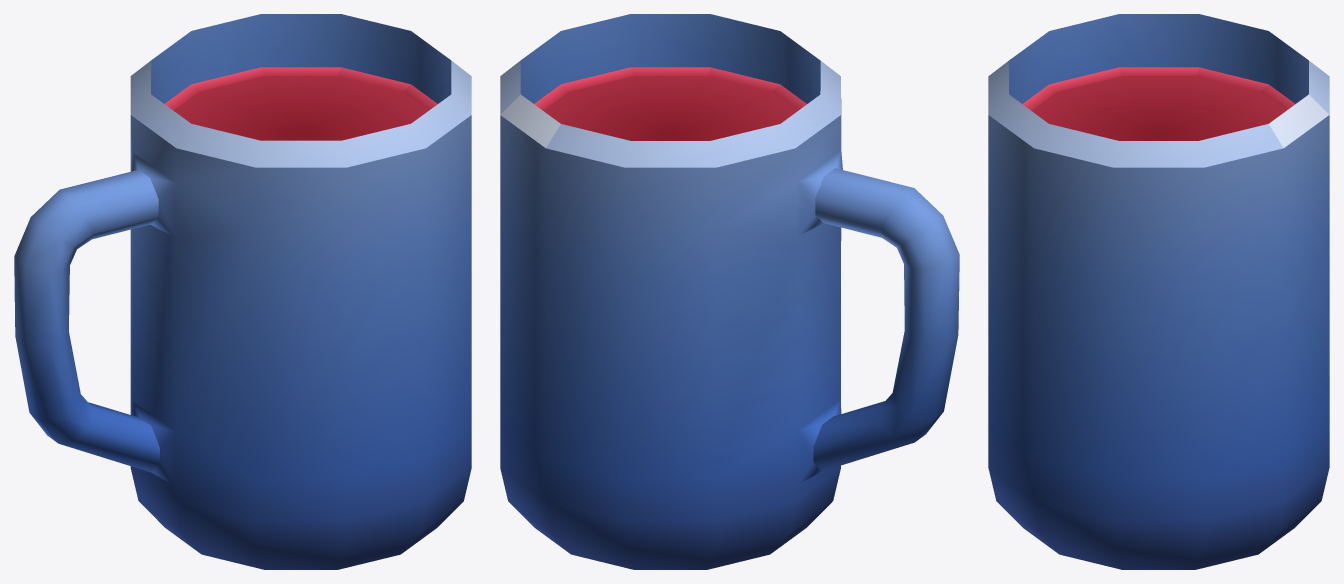
The model's file is m_GlassMug01_Tea05.fbx.
3 views of the same model, side by side, from view 1: azimuth 30°, elevation 25°; view 2: azimuth 150°, elevation 25°; view 3: azimuth 270°, elevation 25° (orthographic).
Visible parts, largest first — view 1: m_GlassMug01_Tea05; view 2: m_GlassMug01_Tea05; view 3: m_GlassMug01_Tea05.
Part boxes in pixels (bbox=[...]): m_GlassMug01_Tea05: bbox=[14, 14, 471, 569]; m_GlassMug01_Tea05: bbox=[500, 14, 959, 569]; m_GlassMug01_Tea05: bbox=[988, 14, 1329, 569].
Size of the model in its own units: 11.37 by 10.99 by 7.81.
